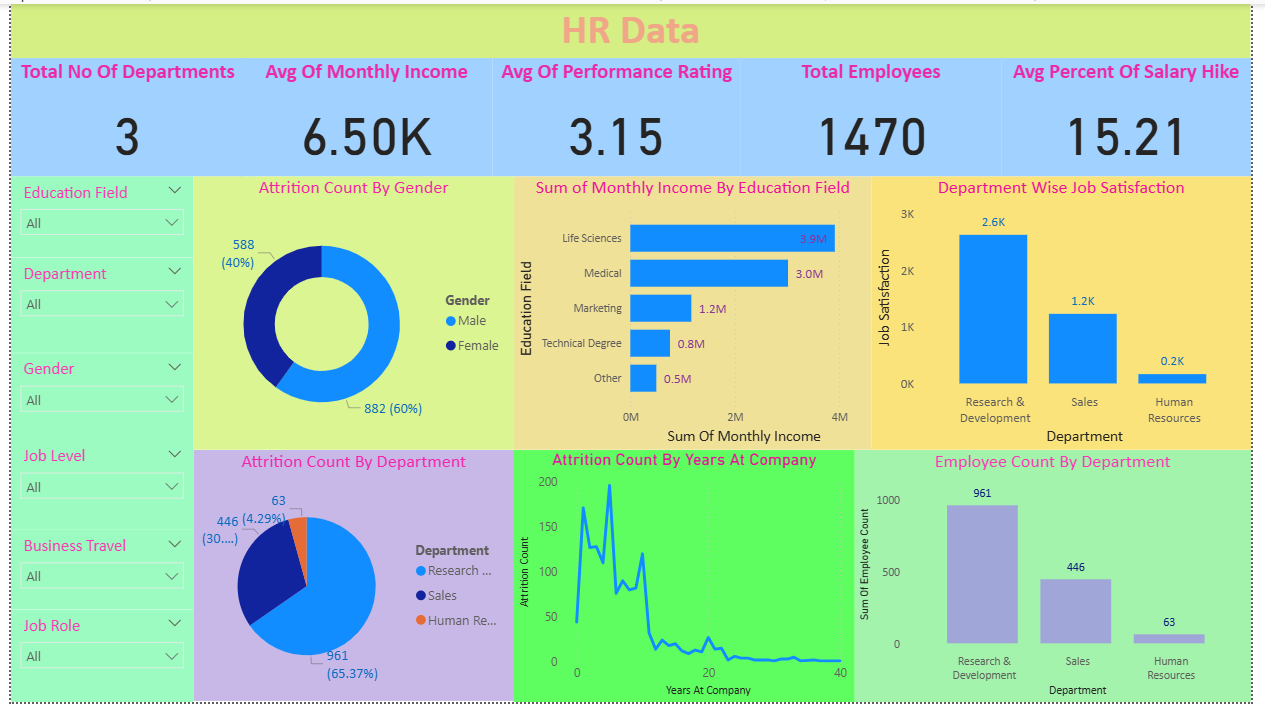

The page's visual inventory and layout, read from the dashboard file:
{"tool":"powerbi","page":{"name":"Dashboard","canvas":[1280,720],"ordinal":0},"visuals":[{"type":"textbox","box":[10.3,0,1269.3,55.9],"z":0},{"type":"textbox","title":"HR Data","box":[0,0,1279.6,55.9],"z":1000},{"type":"card","title":"Total No Of Departments","fields":{"Values":["Count(HR-Employee-Attrition.Department)"]},"box":[0,55.9,241.2,122.1],"z":2000},{"type":"card","title":"Avg Of Monthly Income","fields":{"Values":["Avg(HR-Employee-Attrition.MonthlyIncome)"]},"box":[236.8,55.9,260.3,122.1],"z":3000},{"type":"card","title":"Avg Of Performance Rating","fields":{"Values":["Avg(HR-Employee-Attrition.PerformanceRating)"]},"box":[497.1,55.9,255.9,122.1],"z":4000},{"type":"card","title":"Total Employees","fields":{"Values":["Sum(HR-Employee-Attrition.EmployeeCount)"]},"box":[753.1,55.9,269.2,122.1],"z":5000},{"type":"card","title":"Avg Percent Of Salary Hike","fields":{"Values":["Avg(HR-Employee-Attrition.PercentSalaryHike)"]},"box":[1022.2,55.9,257.4,122.1],"z":6000},{"type":"clusteredBarChart","title":"Sum of Monthly Income By Education Field","fields":{"Category":["HR-Employee-Attrition.EducationField"],"Y":["Sum(HR-Employee-Attrition.MonthlyIncome)"]},"box":[519.2,178,369.2,282.4],"z":7000},{"type":"columnChart","title":"Employee Count By Department","fields":{"Category":["HR-Employee-Attrition.Department"],"Y":["Sum(HR-Employee-Attrition.EmployeeCount)"]},"box":[870.7,460.4,408.9,260.3],"z":8000},{"type":"columnChart","title":"Department Wise Job Satisfaction","fields":{"Category":["HR-Employee-Attrition.Department"],"Y":["Sum(HR-Employee-Attrition.JobSatisfaction)"]},"box":[888.4,178,391.2,282.4],"z":9000},{"type":"slicer","fields":{"Values":["HR-Employee-Attrition.Gender"]},"box":[0,360.4,188.3,89.7],"z":10000},{"type":"slicer","fields":{"Values":["HR-Employee-Attrition.EducationField"]},"box":[0,178,188.3,83.8],"z":11000},{"type":"pieChart","title":"Attrition Count By Department","fields":{"Y":["CountNonNull(HR-Employee-Attrition.Attrition)"],"Category":["HR-Employee-Attrition.Department"]},"box":[188.3,460.4,330.9,258.9],"z":12000},{"type":"slicer","fields":{"Values":["HR-Employee-Attrition.Department"]},"box":[0,261.8,188.3,98.5],"z":13000},{"type":"slicer","fields":{"Values":["HR-Employee-Attrition.JobRole"]},"box":[0,625.1,188.3,95.6],"z":14000},{"type":"slicer","fields":{"Values":["HR-Employee-Attrition.BusinessTravel"]},"box":[0,542.7,188.3,82.4],"z":15000},{"type":"slicer","fields":{"Values":["HR-Employee-Attrition.JobLevel"]},"box":[0,450.1,188.3,92.7],"z":16000},{"type":"lineChart","title":"Attrition Count By Years At Company","fields":{"Category":["HR-Employee-Attrition.YearsAtCompany"],"Y":["CountNonNull(HR-Employee-Attrition.Attrition)"]},"box":[519.2,460.4,351.5,260.3],"z":17000},{"type":"donutChart","title":"Attrition Count By Gender","fields":{"Category":["HR-Employee-Attrition.Gender"],"Y":["CountNonNull(HR-Employee-Attrition.Attrition)"]},"box":[188.3,178,330.9,282.4],"z":18000}]}

Visuals, with their boxes in screenshot pixels (x1, y1, x2, y2), scaled from the page's 1280x720 canvas onto the 1265x712 screenshot:
textbox: box(10, 0, 1264, 55)
"HR Data" textbox: box(0, 0, 1264, 55)
"Total No Of Departments" card: box(0, 55, 238, 176)
"Avg Of Monthly Income" card: box(234, 55, 491, 176)
"Avg Of Performance Rating" card: box(491, 55, 744, 176)
"Total Employees" card: box(744, 55, 1010, 176)
"Avg Percent Of Salary Hike" card: box(1010, 55, 1264, 176)
"Sum of Monthly Income By Education Field" clusteredBarChart: box(513, 176, 878, 455)
"Employee Count By Department" columnChart: box(860, 455, 1264, 711)
"Department Wise Job Satisfaction" columnChart: box(878, 176, 1264, 455)
slicer - HR-Employee-Attrition.Gender: box(0, 356, 186, 445)
slicer - HR-Employee-Attrition.EducationField: box(0, 176, 186, 259)
"Attrition Count By Department" pieChart: box(186, 455, 513, 711)
slicer - HR-Employee-Attrition.Department: box(0, 259, 186, 356)
slicer - HR-Employee-Attrition.JobRole: box(0, 618, 186, 711)
slicer - HR-Employee-Attrition.BusinessTravel: box(0, 537, 186, 618)
slicer - HR-Employee-Attrition.JobLevel: box(0, 445, 186, 537)
"Attrition Count By Years At Company" lineChart: box(513, 455, 860, 711)
"Attrition Count By Gender" donutChart: box(186, 176, 513, 455)
